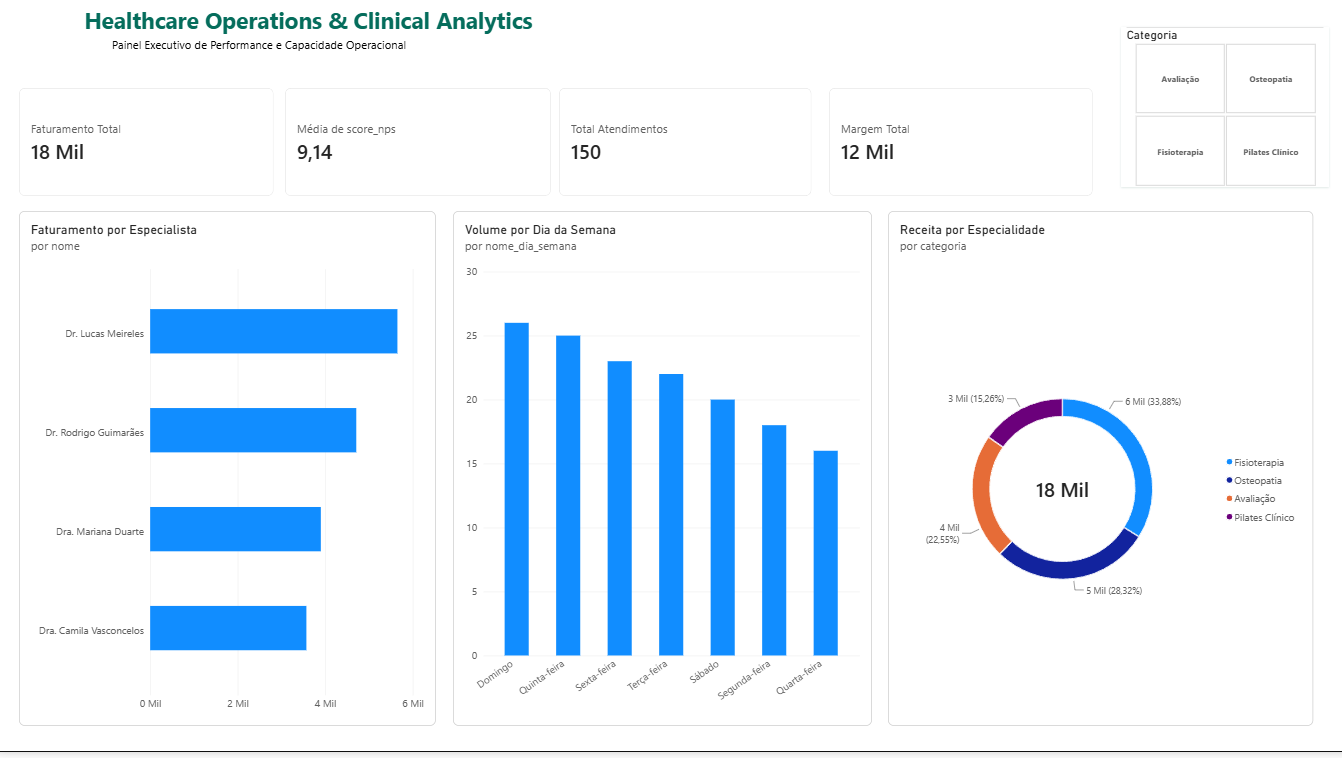

What the dashboard file says about the page in this screenshot:
{"tool":"powerbi","page":{"name":"Página 1","canvas":[1920,1080],"ordinal":0},"visuals":[{"type":"cardVisual","fields":{"Data":["Sum(fact_atendimentos.receita_liquida)"]},"box":[32.6,139,361.6,153.1],"z":0},{"type":"cardVisual","fields":{"Data":["Avg(fact_atendimentos.score_nps)","select"]},"box":[409.8,139,377.2,153.1],"z":1000},{"type":"clusteredBarChart","fields":{"Category":["dim_profissional.nome"],"Y":["Sum(fact_atendimentos.receita_liquida)"]},"box":[32.6,313.4,591.3,730.3],"z":2000},{"type":"cardVisual","fields":{"Data":["CountNonNull(fact_atendimentos.id_atendimento_origem)"]},"box":[798.3,139,358.8,153.1],"z":2001},{"type":"cardVisual","fields":{"Data":["Sum(fact_atendimentos.margem_contribuicao)"]},"box":[1181.2,139,374.4,153.1],"z":2002},{"type":"clusteredColumnChart","fields":{"Category":["dim_tempo.nome_dia_semana"],"Y":["CountNonNull(fact_atendimentos.id_atendimento_origem)"]},"box":[648,313.4,594.2,730.3],"z":2003},{"type":"donutChart","fields":{"Category":["dim_servico.categoria"],"Y":["Sum(fact_atendimentos.receita_liquida)"]},"box":[1264.9,313.4,602.7,730.3],"z":2004},{"type":"slicer","fields":{"Values":["dim_servico.categoria"]},"box":[1595.3,52.5,294.9,226.9],"z":2005},{"type":"textbox","box":[1463.4,19.9,184.3,119.1],"z":2006},{"type":"textbox","box":[94,20,280,162],"z":2007},{"type":"textbox","box":[27.9,16,693.4,63.8],"z":2008},{"type":"textbox","box":[33.3,66.5,459.4,34],"z":2009}]}

Visuals, with their boxes in screenshot pixels (x1, y1, x2, y2), scaled from the page's 1920x1080 canvas onto the 1342x758 screenshot:
cardVisual - Sum(fact_atendimentos.receita_liquida): {"left": 23, "top": 98, "right": 276, "bottom": 205}
cardVisual - Avg(fact_atendimentos.score_nps) x select: {"left": 286, "top": 98, "right": 550, "bottom": 205}
clusteredBarChart - dim_profissional.nome x Sum(fact_atendimentos.receita_liquida): {"left": 23, "top": 220, "right": 436, "bottom": 733}
cardVisual - CountNonNull(fact_atendimentos.id_atendimento_origem): {"left": 558, "top": 98, "right": 809, "bottom": 205}
cardVisual - Sum(fact_atendimentos.margem_contribuicao): {"left": 826, "top": 98, "right": 1087, "bottom": 205}
clusteredColumnChart - dim_tempo.nome_dia_semana x CountNonNull(fact_atendimentos.id_atendimento_origem): {"left": 453, "top": 220, "right": 868, "bottom": 733}
donutChart - dim_servico.categoria x Sum(fact_atendimentos.receita_liquida): {"left": 884, "top": 220, "right": 1305, "bottom": 733}
slicer - dim_servico.categoria: {"left": 1115, "top": 37, "right": 1321, "bottom": 196}
textbox: {"left": 1023, "top": 14, "right": 1152, "bottom": 98}
textbox: {"left": 66, "top": 14, "right": 261, "bottom": 128}
textbox: {"left": 20, "top": 11, "right": 504, "bottom": 56}
textbox: {"left": 23, "top": 47, "right": 344, "bottom": 71}
